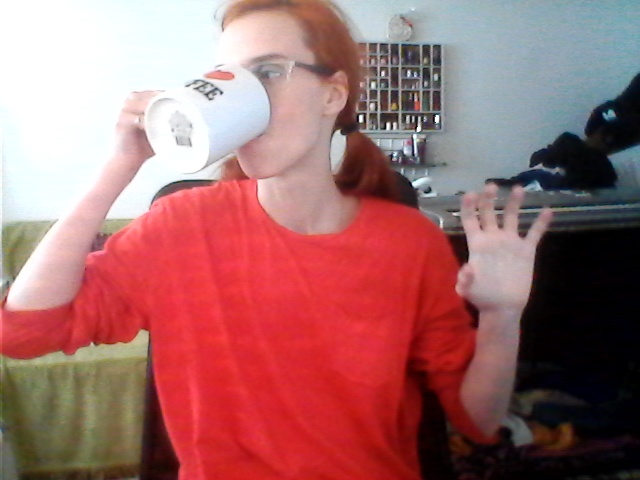budova: (445, 180, 557, 316)
